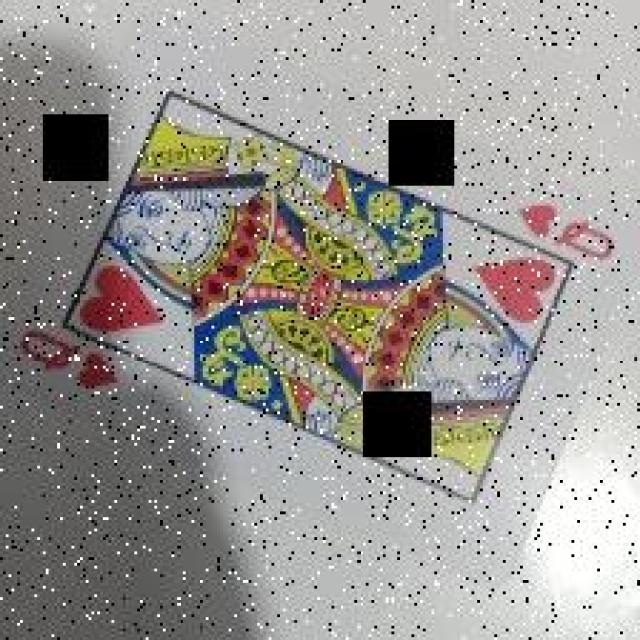Queen of hearts: (7, 46, 640, 573)
